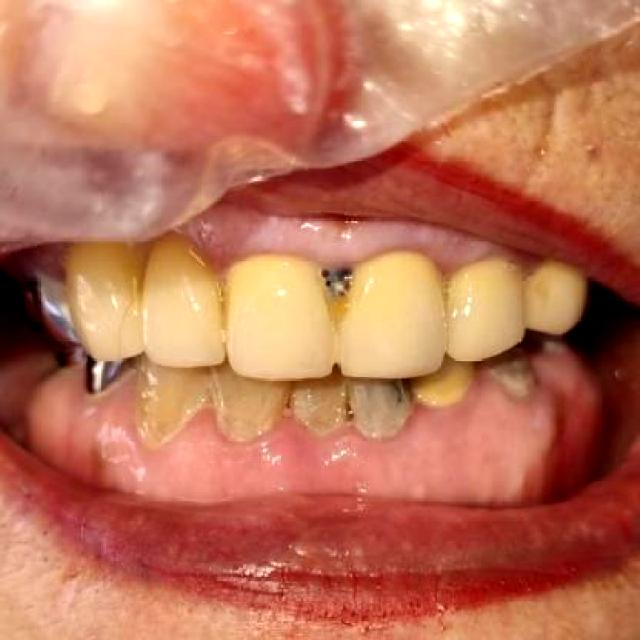Plaque: (28, 351, 603, 496), (309, 253, 366, 333), (378, 371, 425, 421), (486, 352, 532, 389)
